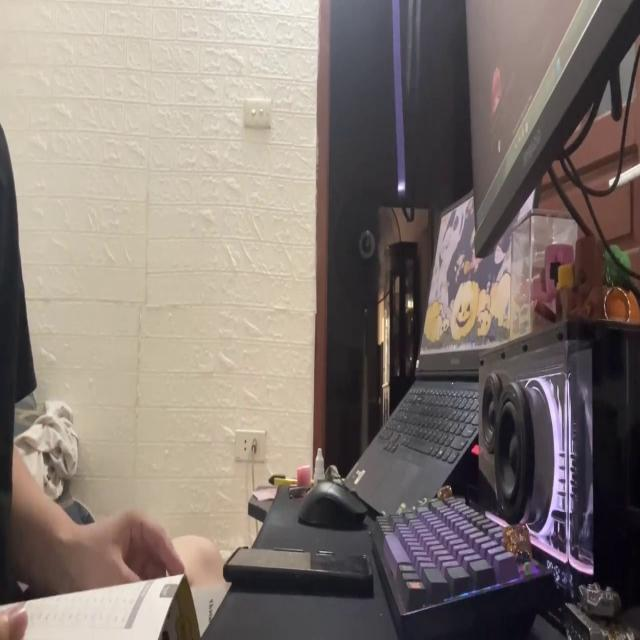laptop: (344, 172, 540, 520), (464, 0, 640, 251)
phone: (224, 539, 376, 598)
student: (0, 121, 226, 592)
